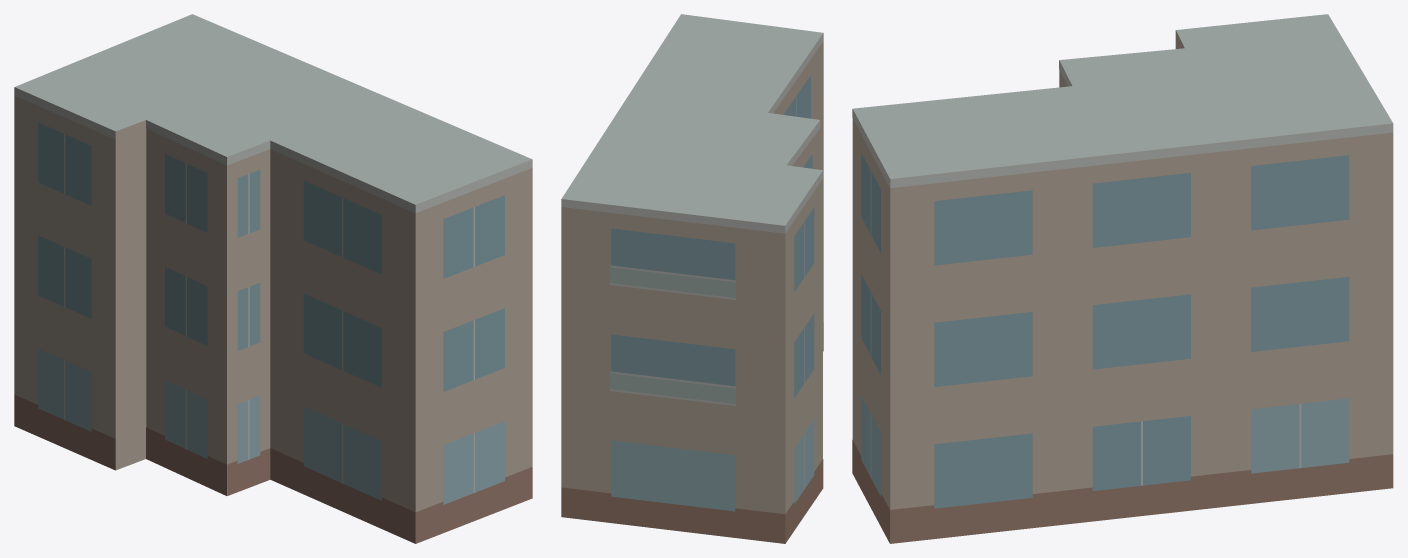
The model's file is survey-upis-32822985.glb.
3 views of the same model, side by side, from view 1: azimuth 30°, elevation 25°; view 2: azimuth 150°, elevation 25°; view 3: azimuth 270°, elevation 25° (orthographic). The views are drawn at different scales.
Visible parts, largest first — view 1: survey-upis-32822985.tmp; view 2: survey-upis-32822985.tmp; view 3: survey-upis-32822985.tmp.
Boxes of the visible parts, box(x1,y1,x2,y2) form: survey-upis-32822985.tmp: box(14, 14, 532, 543); survey-upis-32822985.tmp: box(561, 14, 823, 543); survey-upis-32822985.tmp: box(852, 14, 1393, 543).
Bounding box in the file's own units: 9.53 × 9.8 × 13.18.
